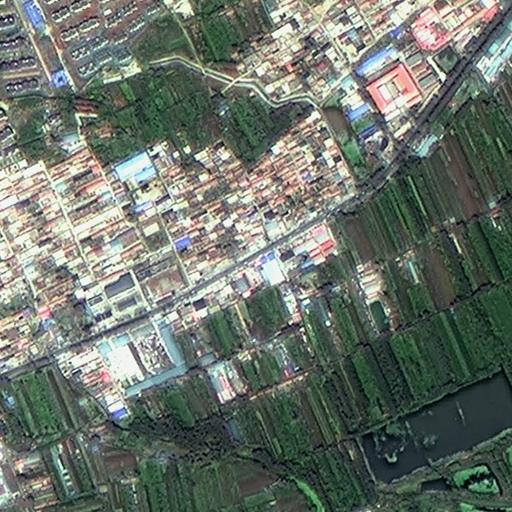school: (131, 251, 190, 309)
